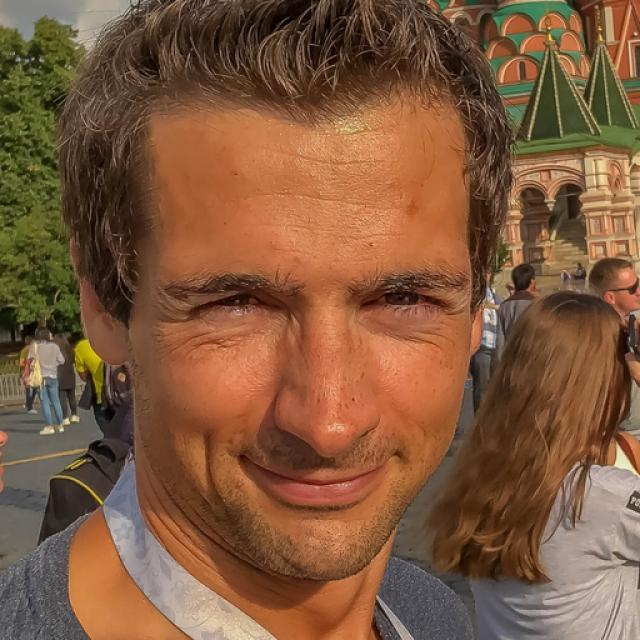happy: (124, 69, 476, 586)
